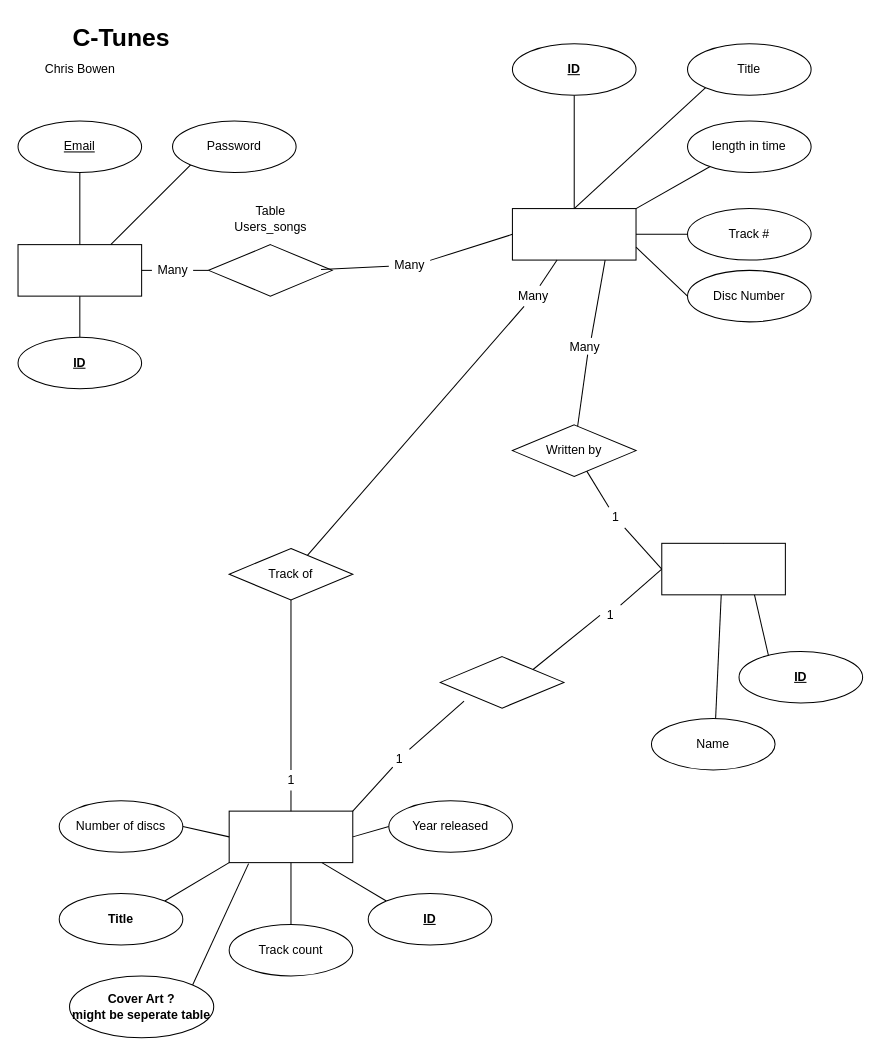
Image size: 881x1056. Some labels were removed from this diagram. Each missing label, with the box of its shape:
Album: (228, 810, 353, 863)
Artist: (661, 542, 785, 595)
Owns: (208, 244, 332, 296)
Released By: (439, 656, 564, 708)
Song: (511, 208, 636, 260)
User: (17, 244, 142, 296)
